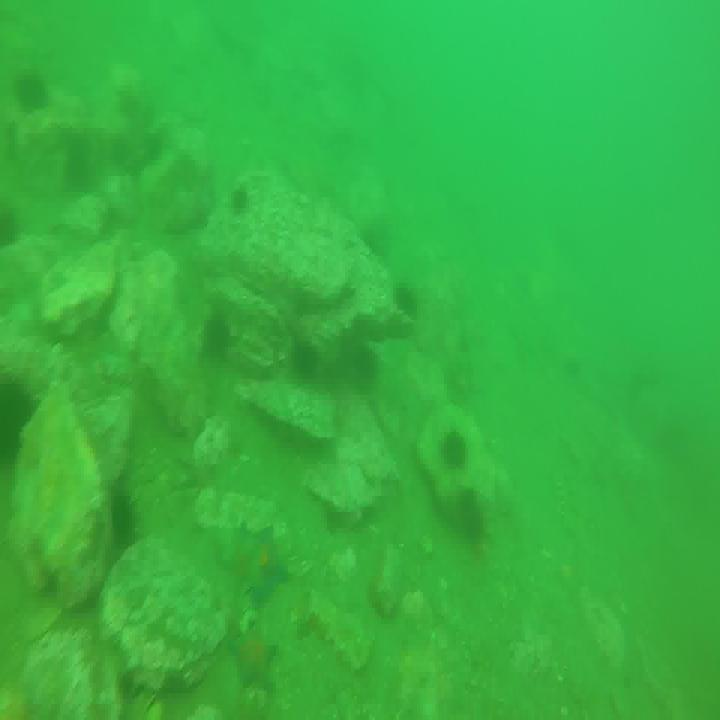echinus: (0, 381, 34, 459), (104, 484, 138, 554), (457, 492, 488, 546), (19, 69, 50, 113), (440, 429, 470, 474), (391, 280, 420, 326), (352, 344, 382, 386), (293, 340, 323, 377), (209, 314, 232, 360), (0, 209, 24, 251), (226, 184, 252, 215)
starfish: (230, 620, 282, 694), (237, 525, 285, 598)
